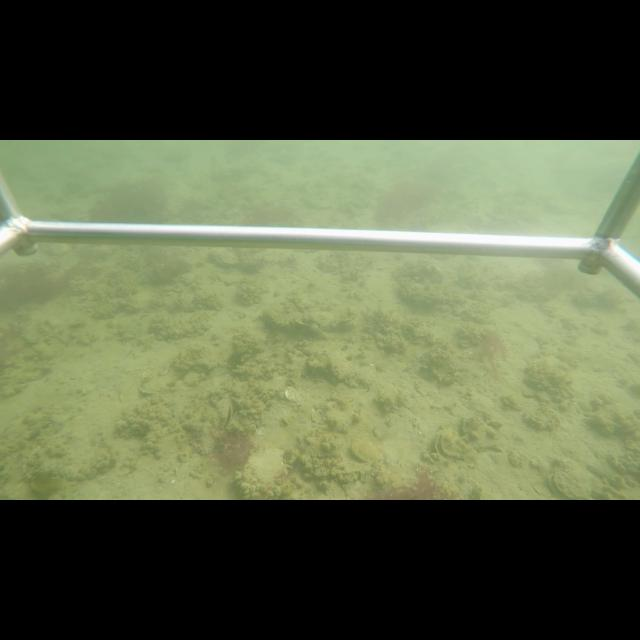Oyster-Closed: (260, 292, 359, 332), (206, 246, 241, 267)
Oyster-Open: (546, 454, 594, 500), (433, 427, 480, 467), (214, 396, 236, 431)
